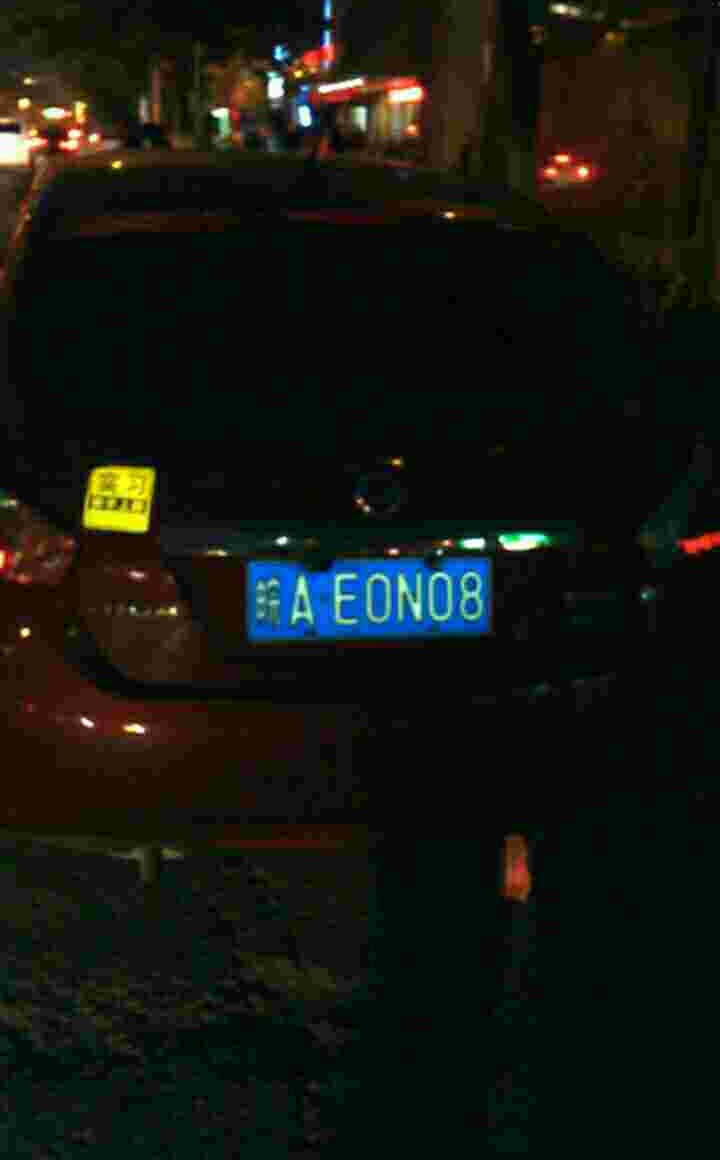license_plate: (261, 562, 495, 644)
